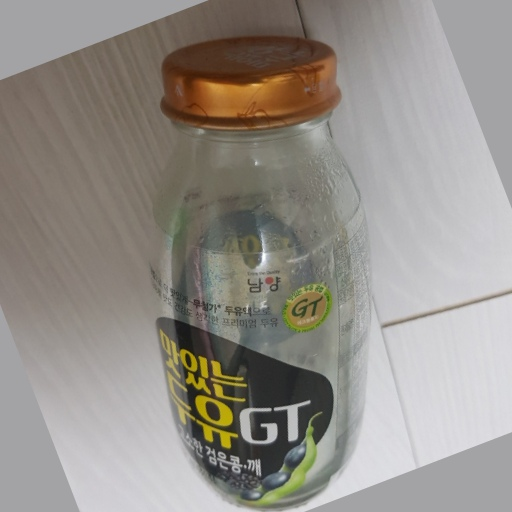Glass_4: (150, 34, 378, 507)
